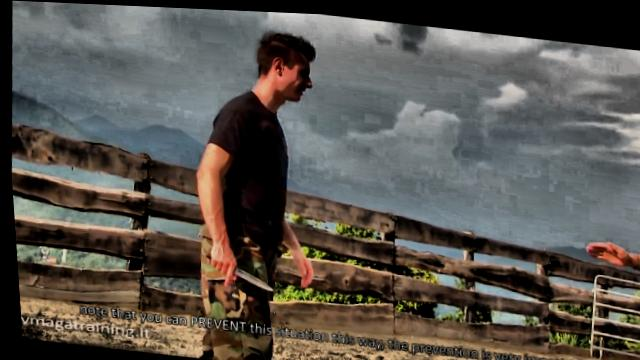knife: (193, 243, 274, 294)
